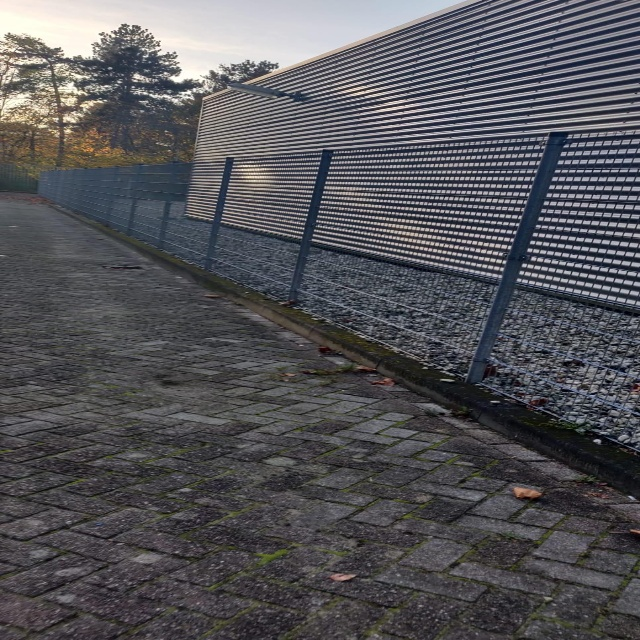obstacle: (0, 0, 640, 638)
